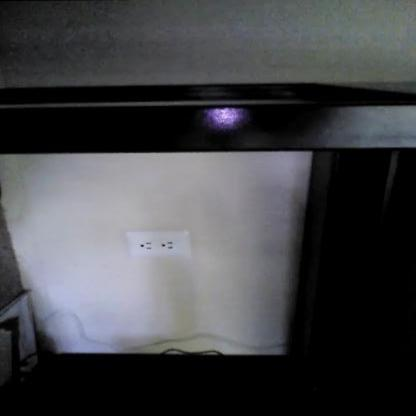OUTLET: (127, 231, 192, 258)
